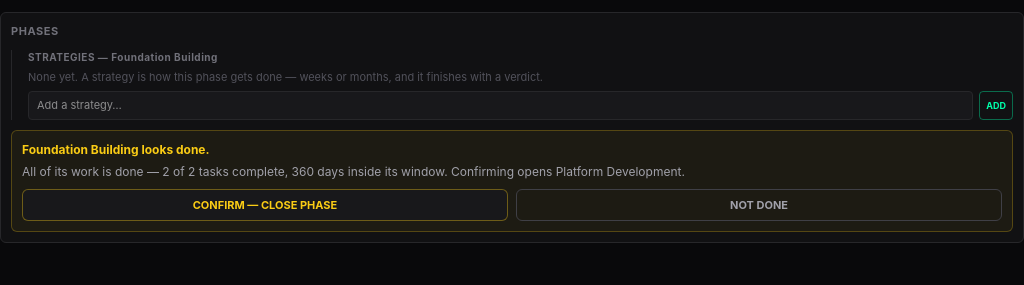
Test: PhasePanel › shows the API's own sentence when confirmation is refused
Click the button "CONFIRM — CLOSE PHASE": (265, 205) [22,188,508,221]
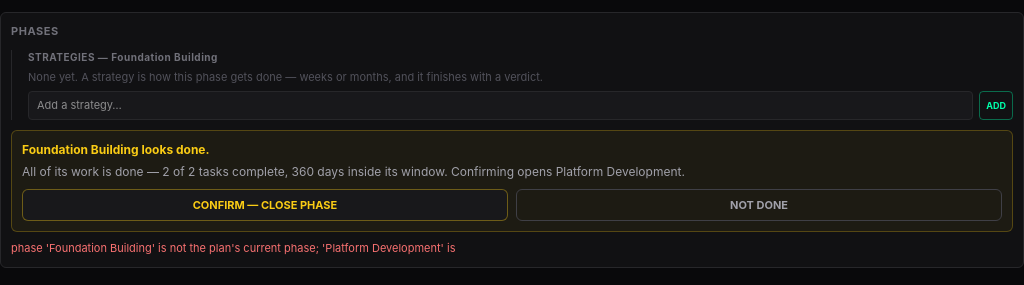
Result: the text "is not the plan's current phase" is shown at [11,241,456,255]
